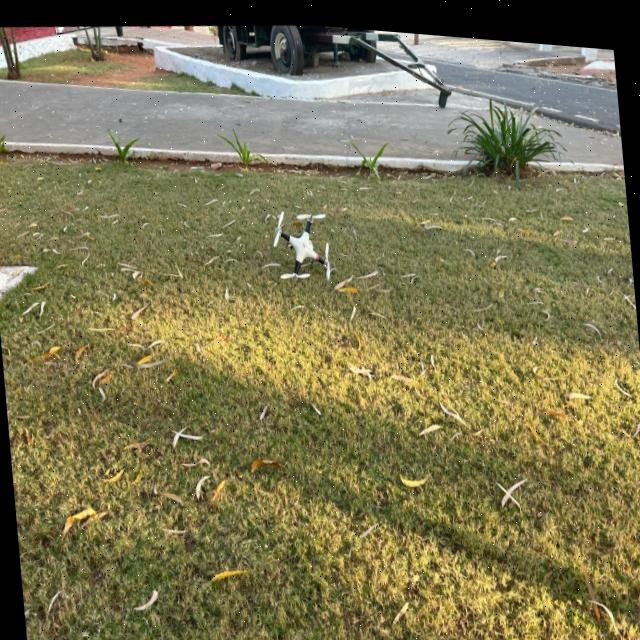drone: (254, 194, 364, 303)
